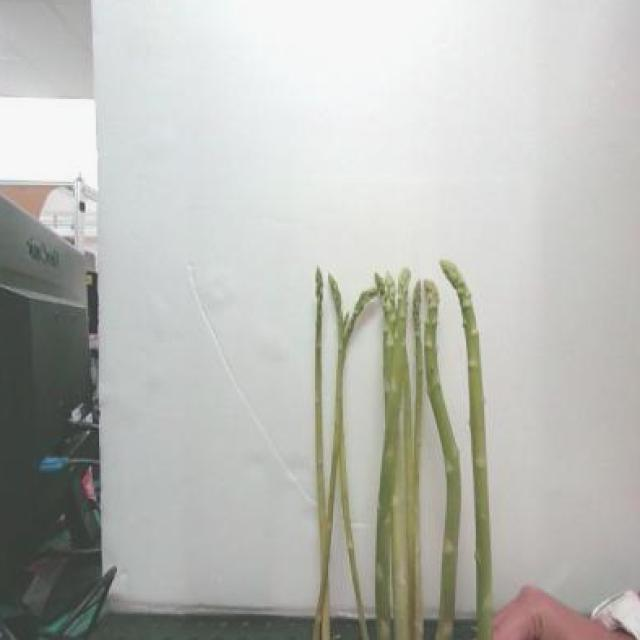aspargus: (442, 262, 492, 640), (421, 280, 462, 640)
